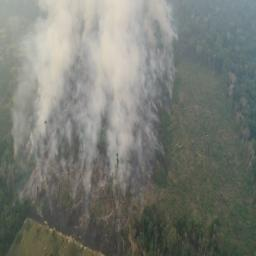Heavy smoke: (3, 0, 180, 215)
